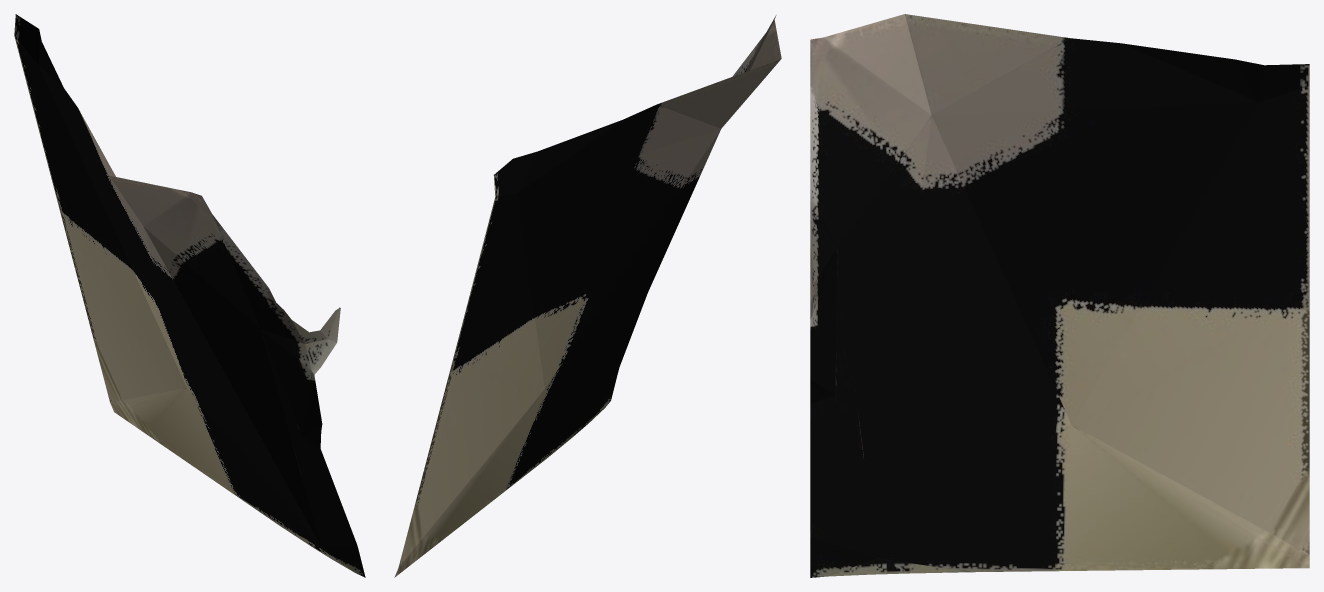
The picture shows the model from 3 angles, left to right: view 1: azimuth 30°, elevation 25°; view 2: azimuth 150°, elevation 25°; view 3: azimuth 270°, elevation 25°; orthographic projection. The views are drawn at different scales.
Bounding box in the file's own units: 3.11 × 5.9 × 5.9.
Materials: 3 (3 with a texture image).
